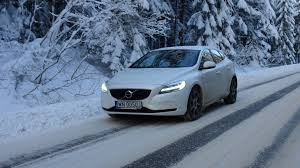car: (100, 44, 238, 120)
